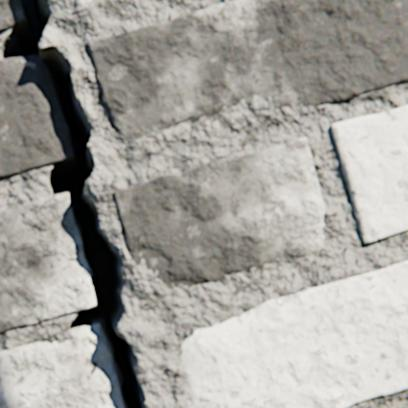brick: (87, 0, 407, 141), (180, 260, 407, 407), (113, 138, 323, 288), (0, 193, 97, 332), (329, 106, 407, 244), (0, 332, 124, 407), (0, 59, 73, 179), (0, 0, 26, 32), (75, 0, 93, 7)
crack: (1, 0, 142, 407)
